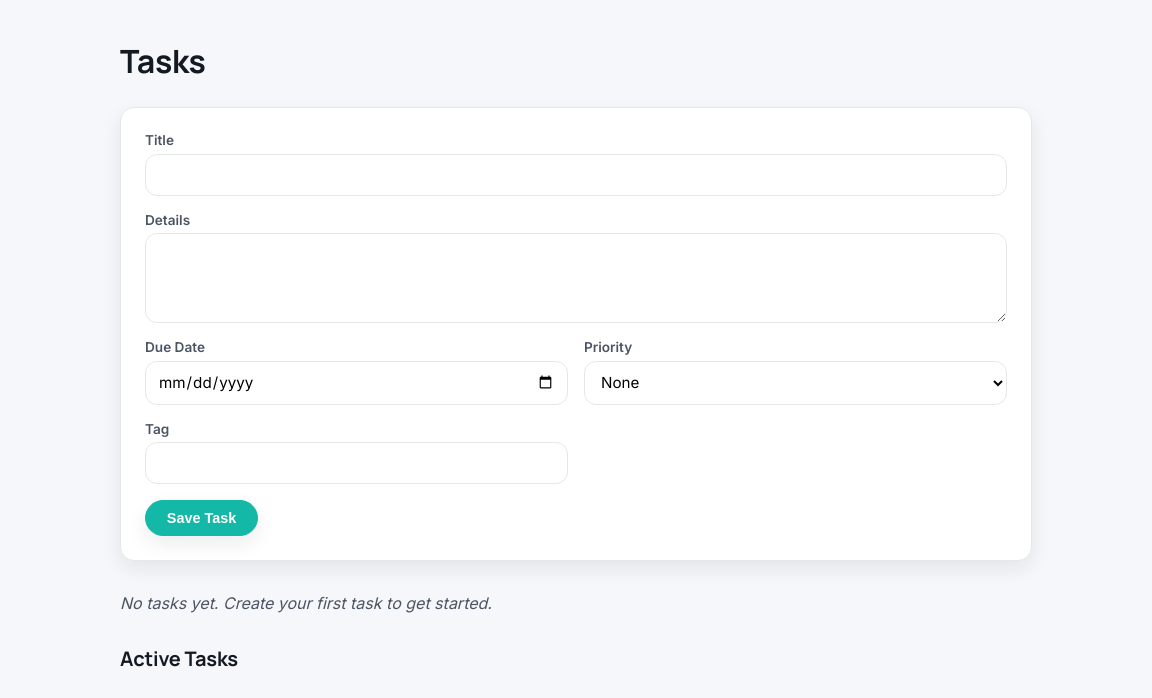
Test case: Task experience (US-001 + US-002 + US-003 + US-004) › saves and displays optional due date, priority, and tag
In the field labelled "Title": (576, 175) [145,154,1007,196], type "Plan sprint"
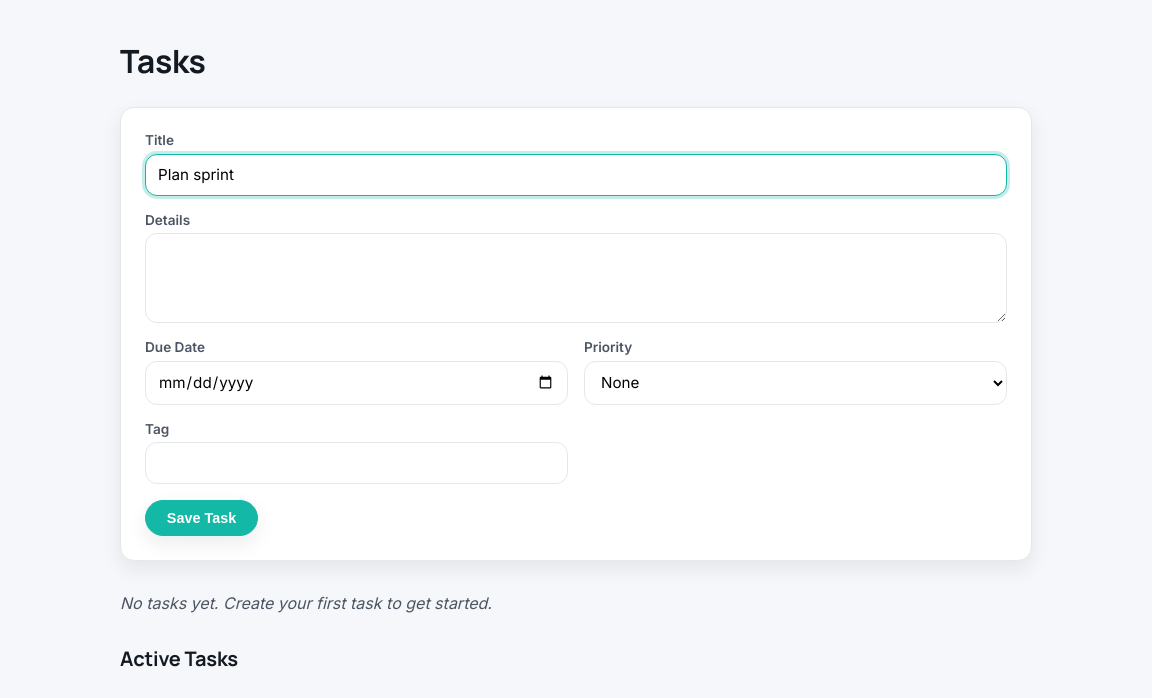
In the date field labelled "Due Date": (356, 383) [145,361,568,405], type "2026-06-01"
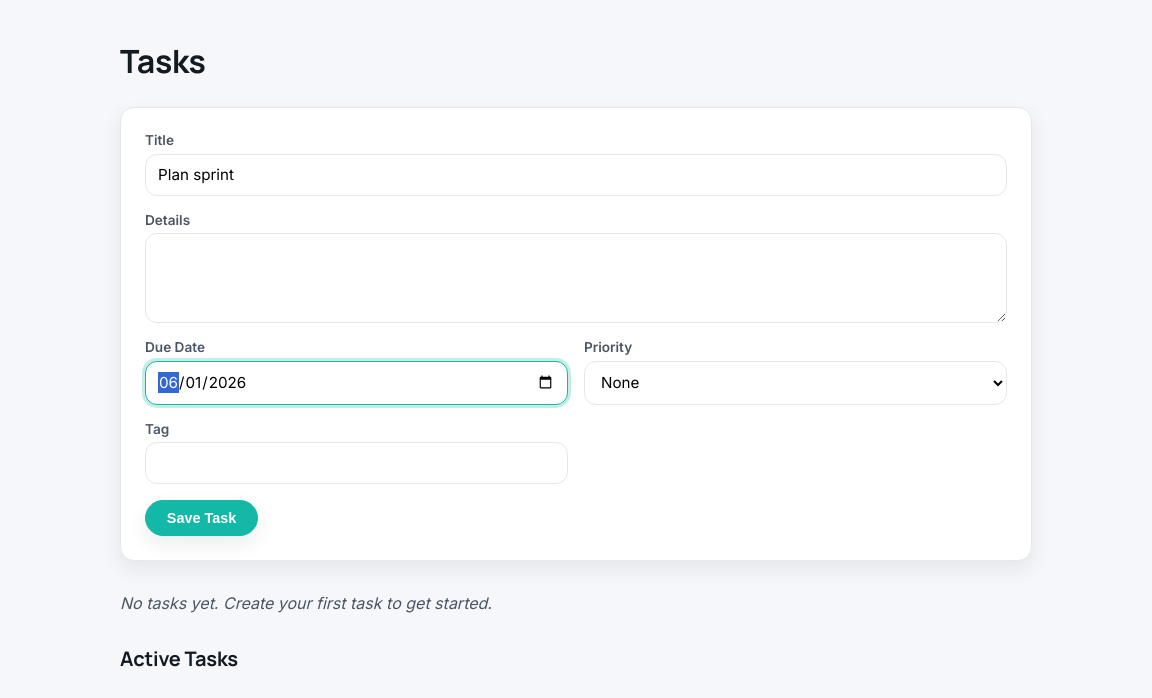
Select "high" in the dropdown labelled "Priority": (796, 383) [584,361,1007,405]
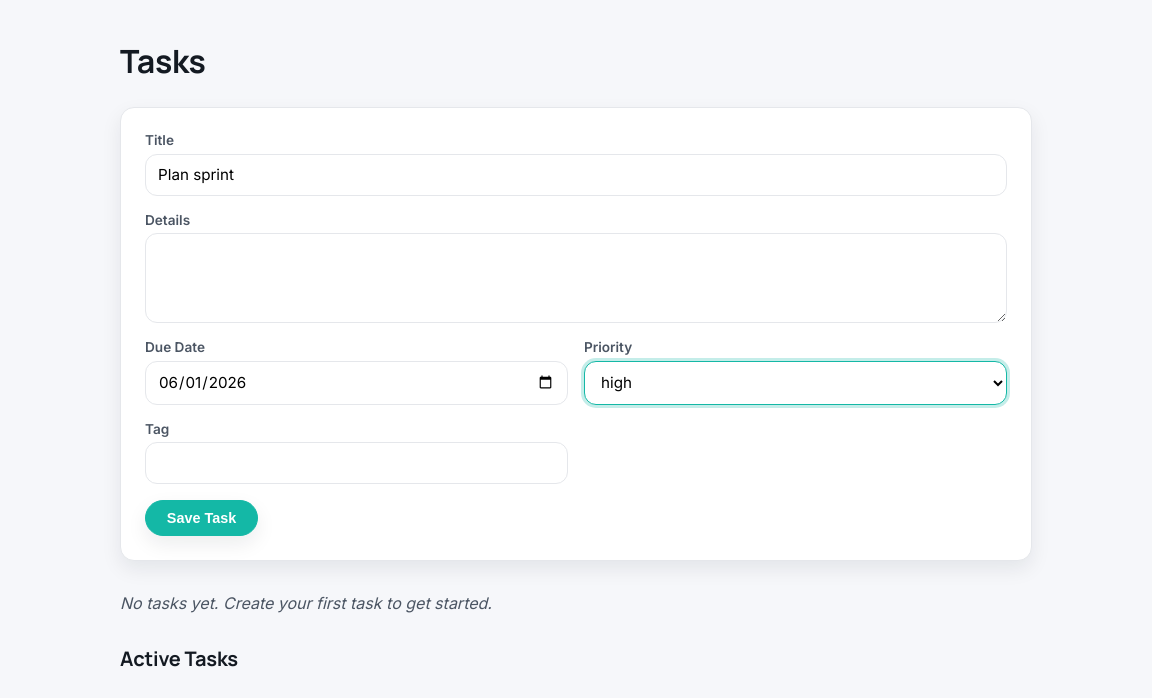
In the field labelled "Tag": (356, 463) [145,442,568,484], type "work"
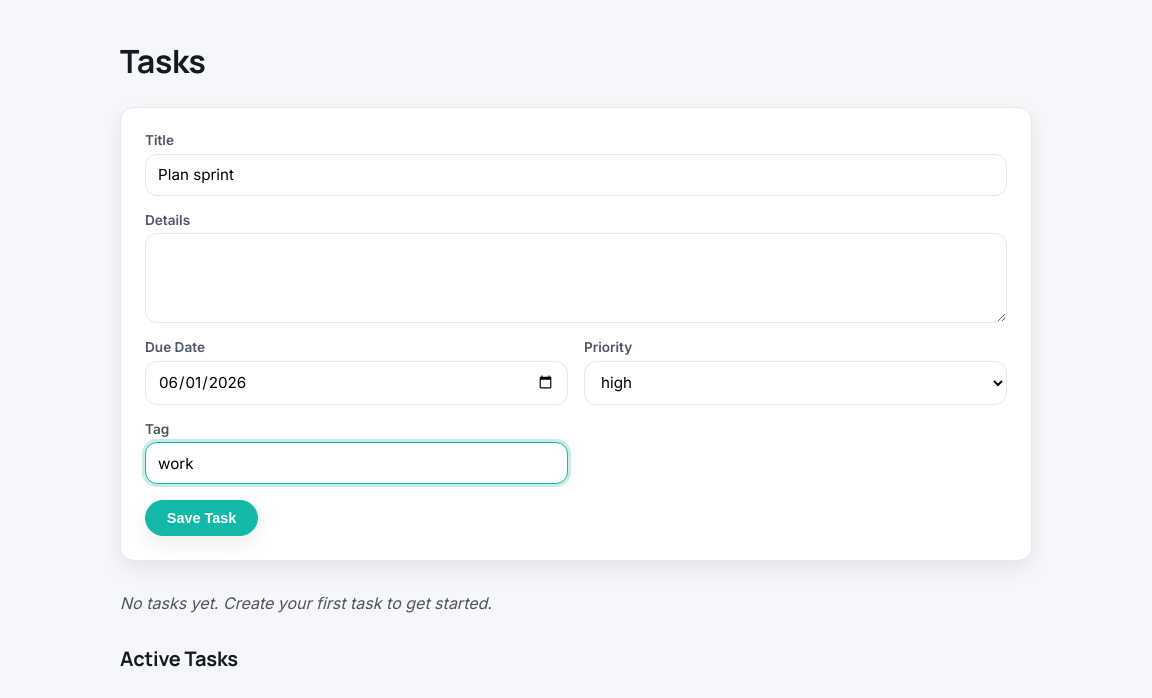
Click the button "Save Task": click(201, 518) [145,500,258,536]
(page scrolled)
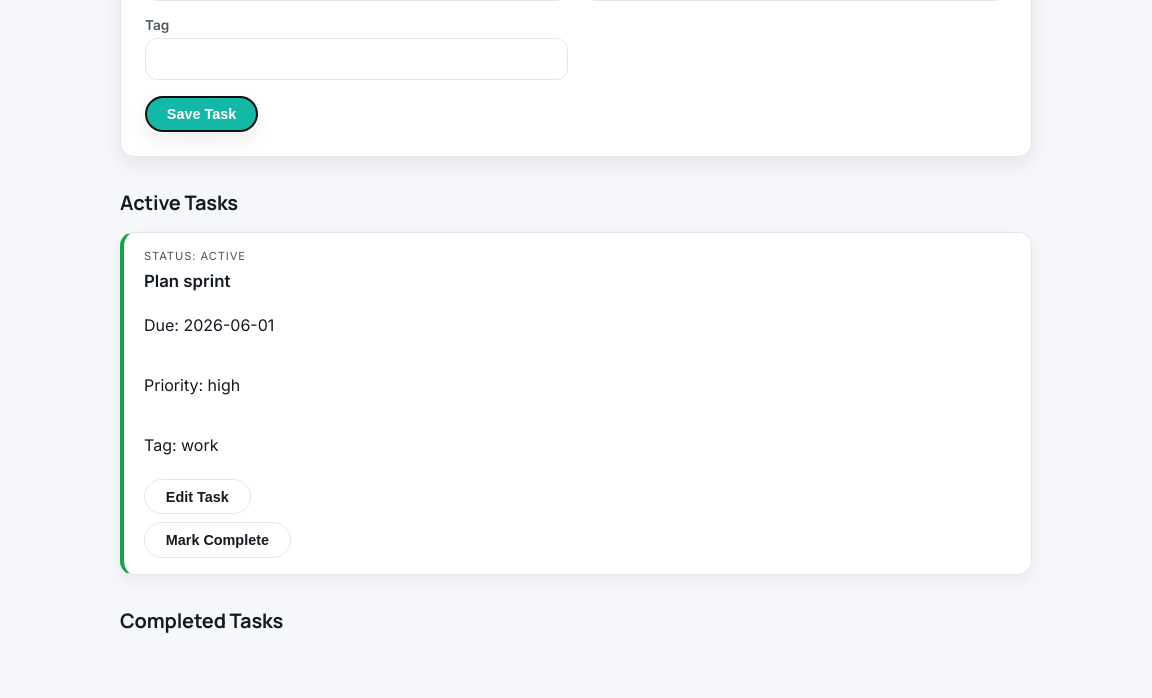
Check: the text "Due: 2026-06-01" is shown, box [144,315,274,335]
Check: the text "Priority: high" is shown, box [144,375,240,395]
Check: the text "Tag: work" is shown, box [144,435,218,455]
